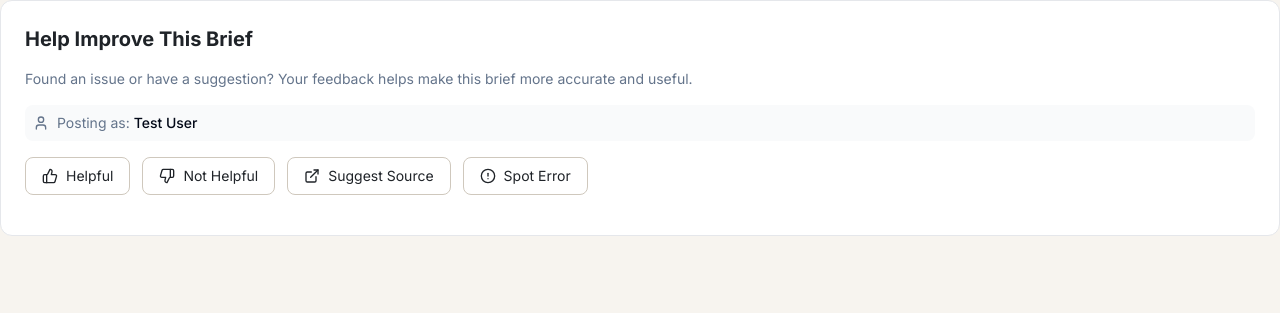
Test: FeedbackForm › Upvote Feedback › should show success message after upvote
Click the button "Helpful".
click(78, 176)  # box [25,157,130,195]
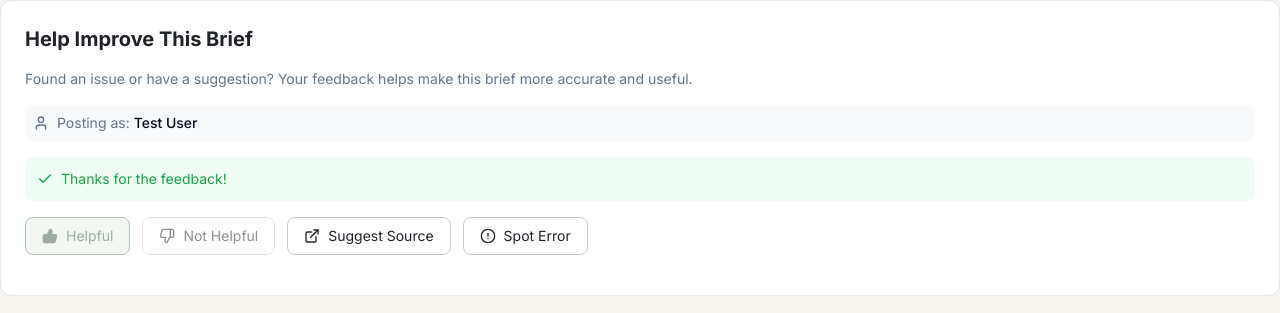
Result: the text "Thanks for the feedback!" is shown at [25,157,1255,201]
